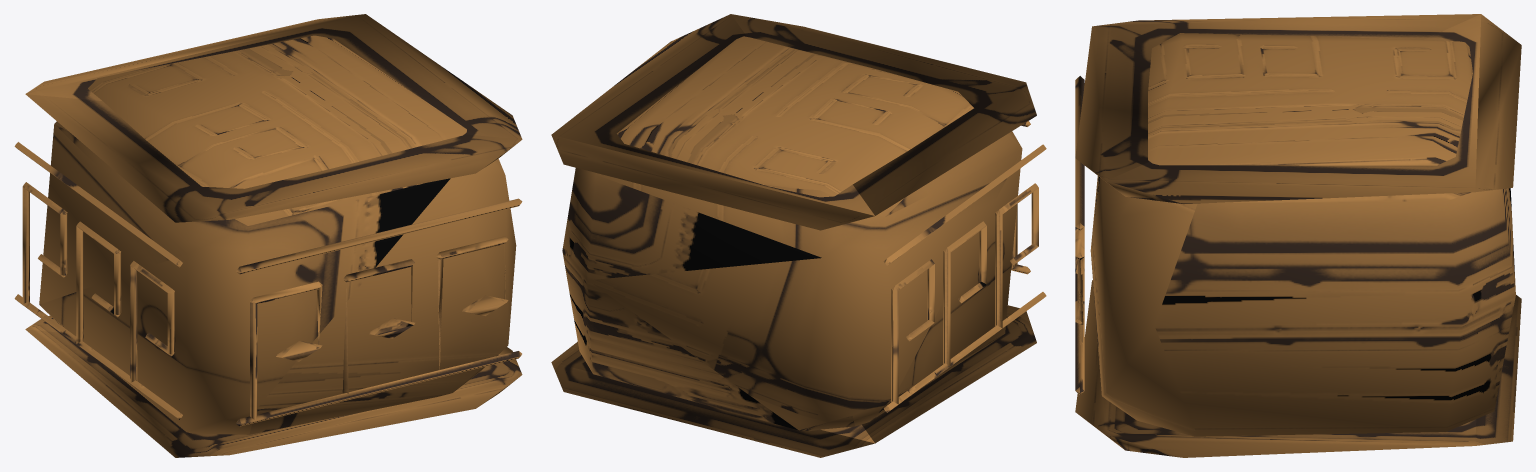
The model's file is Atalanta_BrazaleteDer.fbx.
3 renders of one model, left to right at view 1: azimuth 30°, elevation 25°; view 2: azimuth 150°, elevation 25°; view 3: azimuth 270°, elevation 25°, orthographic. The views are drawn at different scales.
Parts seen in each view (by area): view 1: Atalanta_BrazaleteDer; view 2: Atalanta_BrazaleteDer; view 3: Atalanta_BrazaleteDer.
Part boxes in pixels (x1,y1,x2,y2): Atalanta_BrazaleteDer: [14, 14, 522, 457]; Atalanta_BrazaleteDer: [551, 14, 1046, 457]; Atalanta_BrazaleteDer: [1075, 14, 1521, 457].
Size of the model in its own units: 1.23 by 0.8877 by 1.21.
